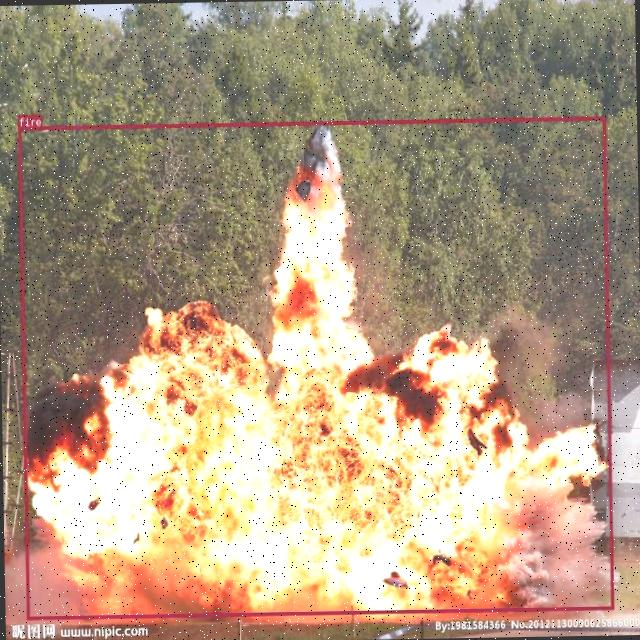fire: (18, 116, 614, 618)
